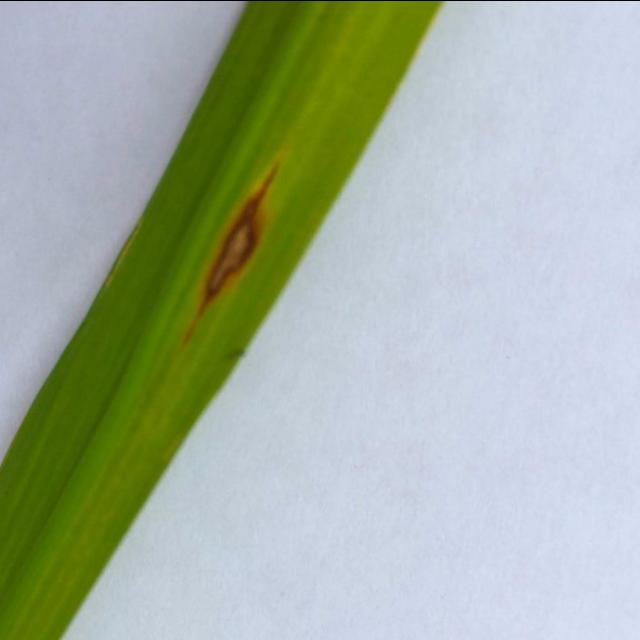Leaf blast: (1, 0, 464, 640)
